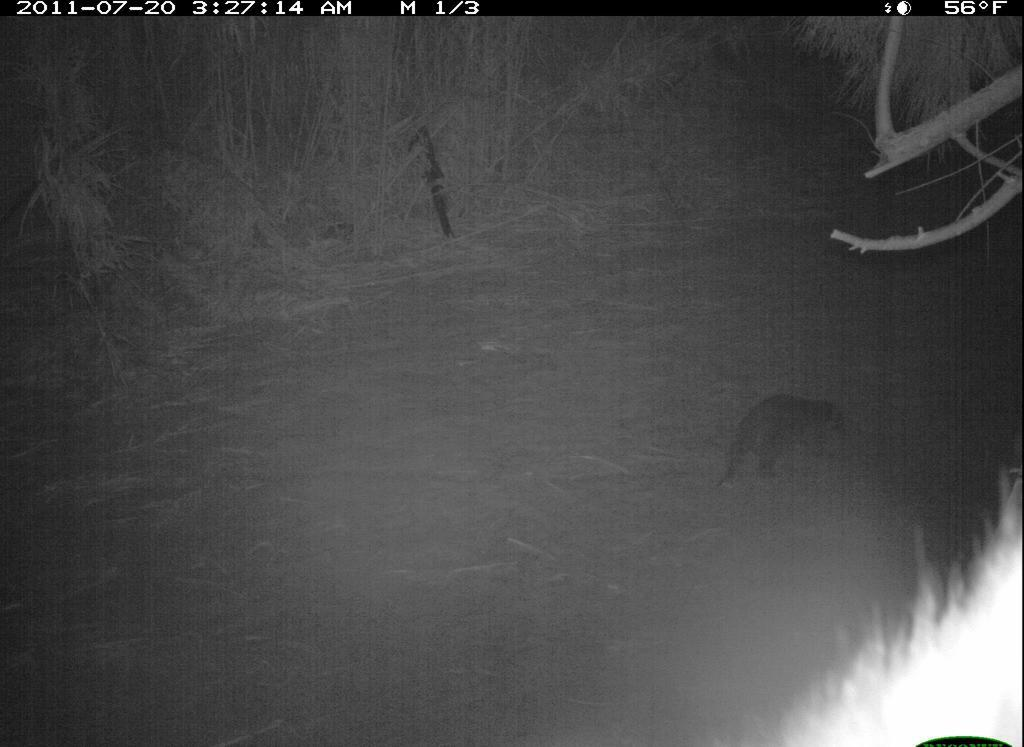raccoon: (707, 381, 871, 498)
